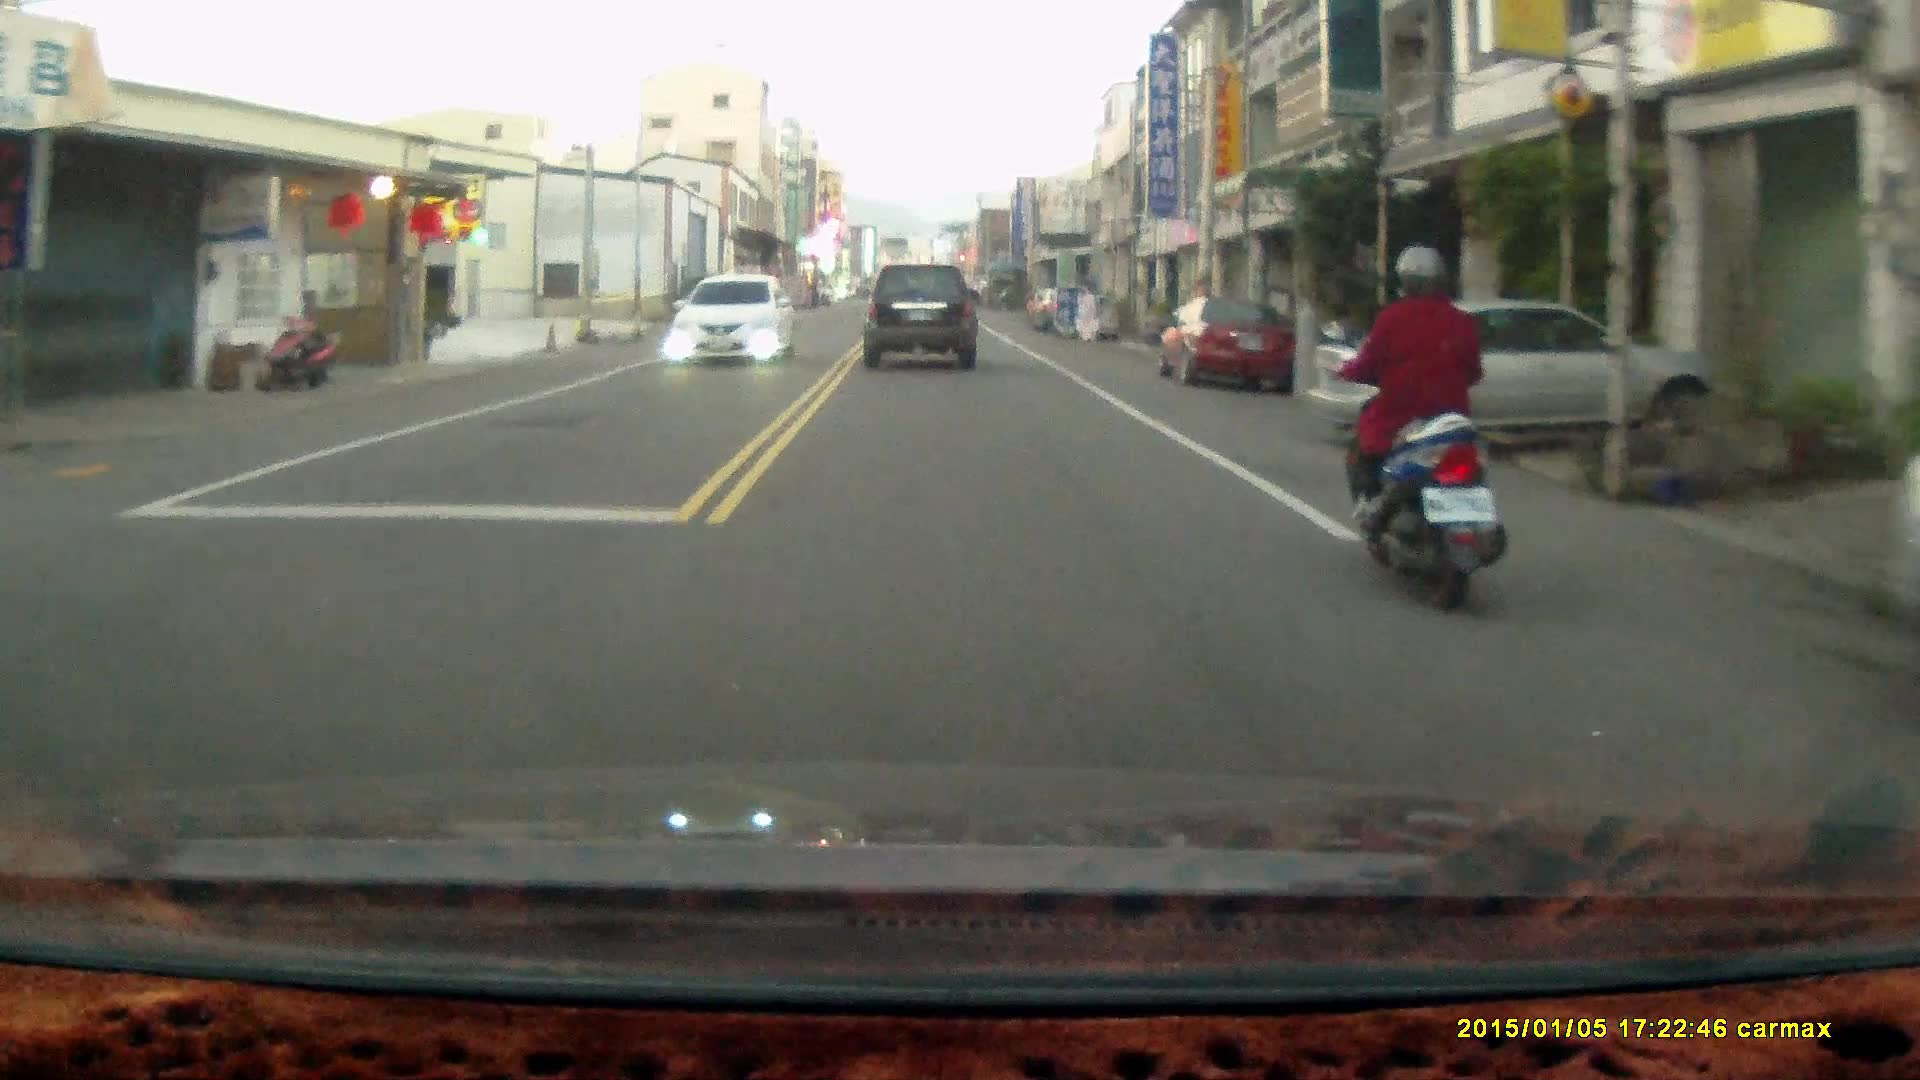rider: (1317, 240, 1507, 612)
vehicle: (1312, 294, 1740, 462), (862, 261, 982, 370), (1155, 300, 1293, 394), (668, 277, 798, 368)
